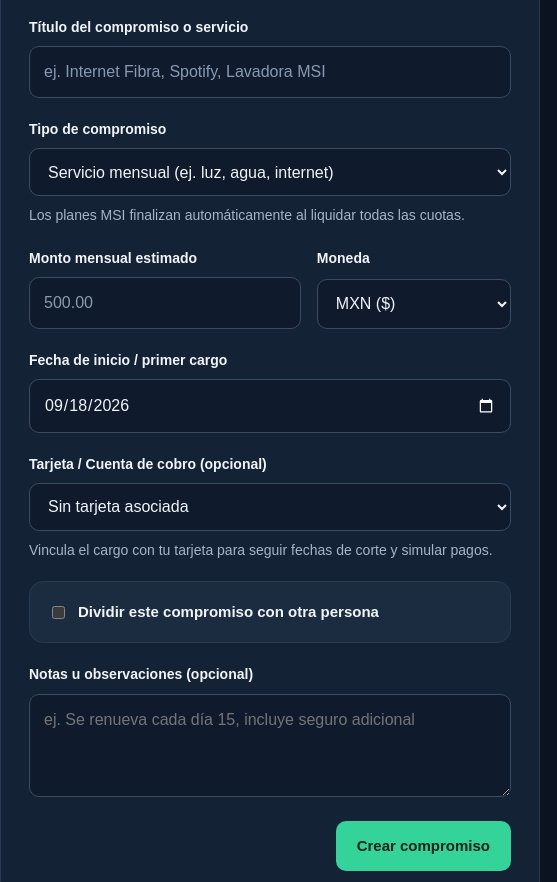
Test: RecurringForm › renders creation form with default service fields and validates required title
(page scrolled)
expect the dropdown labelled "Tipo de compromiso" shows "Servicio mensual (ej. luz, agua, internet)": met, box [29,148,511,196]
expect the field labelled "Título del compromiso o servicio" is shown: met, box [29,46,511,98]
Click the button "Crear compromiso" at (423,846), box [336,820,511,870]
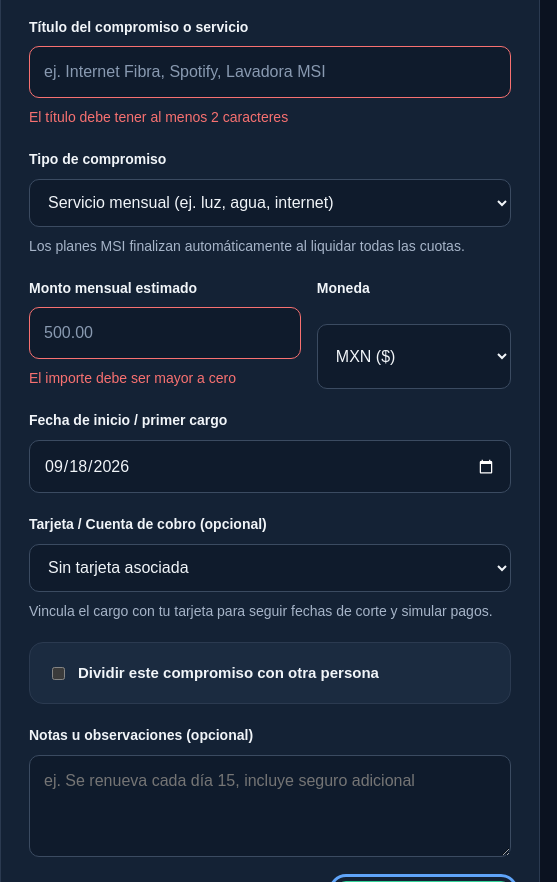
expect the text "El título debe tener al menos 2 caracteres" is shown: met, box [29,109,288,125]
